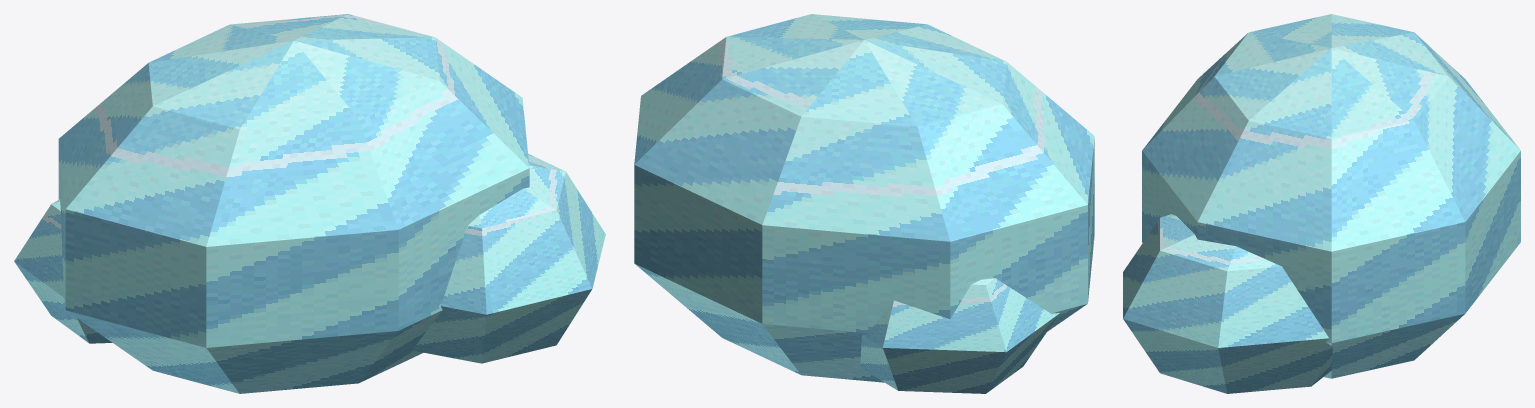
File: entulho_de_gelo.glb
3 views of the same model, side by side, from view 1: azimuth 30°, elevation 25°; view 2: azimuth 150°, elevation 25°; view 3: azimuth 270°, elevation 25° (orthographic). The views are drawn at different scales.
Visible parts, largest first — view 1: entulho_de_gelo; view 2: entulho_de_gelo; view 3: entulho_de_gelo.
Boxes of the visible parts, box(x1,y1,x2,y2) form: entulho_de_gelo: box(14, 14, 605, 393); entulho_de_gelo: box(634, 14, 1094, 393); entulho_de_gelo: box(1123, 14, 1520, 393).
Size of the model in its own units: 1.21 by 0.7894 by 0.9604.
Materials: 1 (1 with a texture image).
